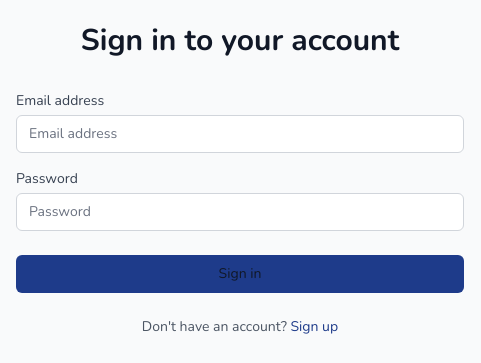
Test: LoginForm › should display validation error for missing email
Type "password123" into the password field with placeholder "Password" at (240, 212), box top-left (16, 193), bottom-right (464, 231)
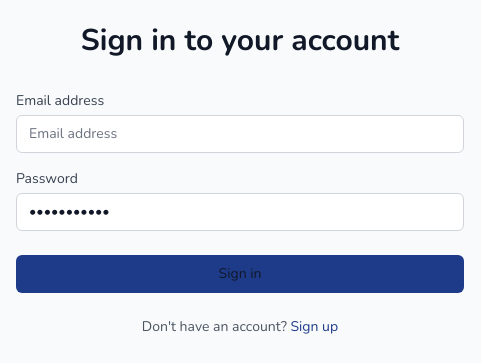
Click the button "Sign in" at (240, 274), box top-left (16, 255), bottom-right (464, 293)
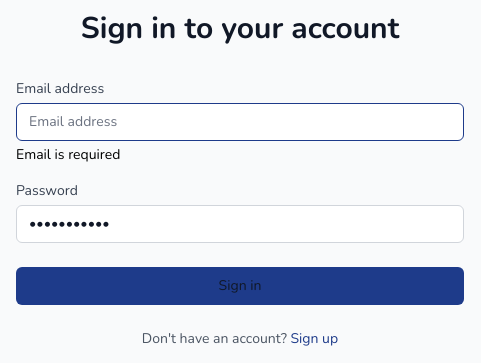
expect the text "Email is required" is shown: met, box top-left (16, 145), bottom-right (120, 164)
